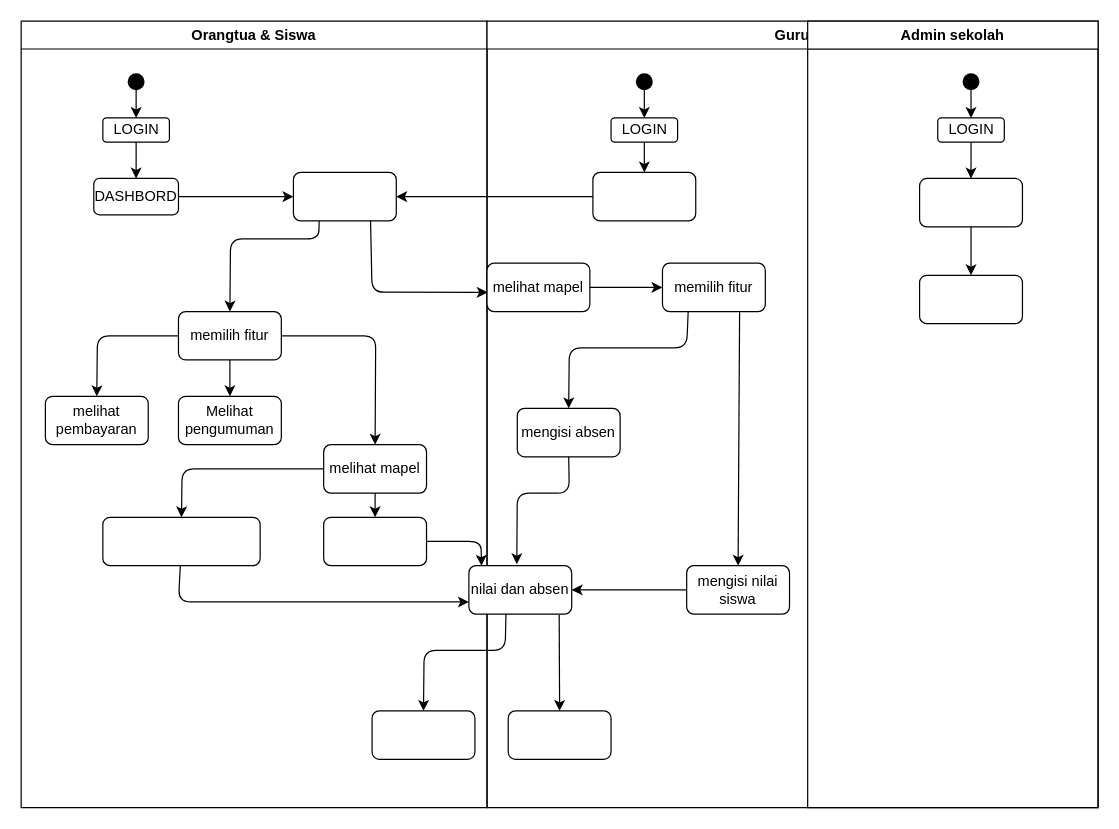
Image size: 1119x829. Some labels were removed from this diagram. The centre of each missing label's shape, as x and y in pixels:
"dashboard" goes at (644,196).
"melihat absensi" goes at (181,541).
"melihatnilai" goes at (374,541).
"menampilkan absensi" goes at (423,734).
"menampilkan fitur" goes at (970,202).
"menampilkan nilai" goes at (559,734).
"Menampilkan profil dashboard" goes at (344,196).
"Mengubah fitur" goes at (970,299).
